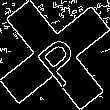P_NW: (24, 24, 86, 86)
